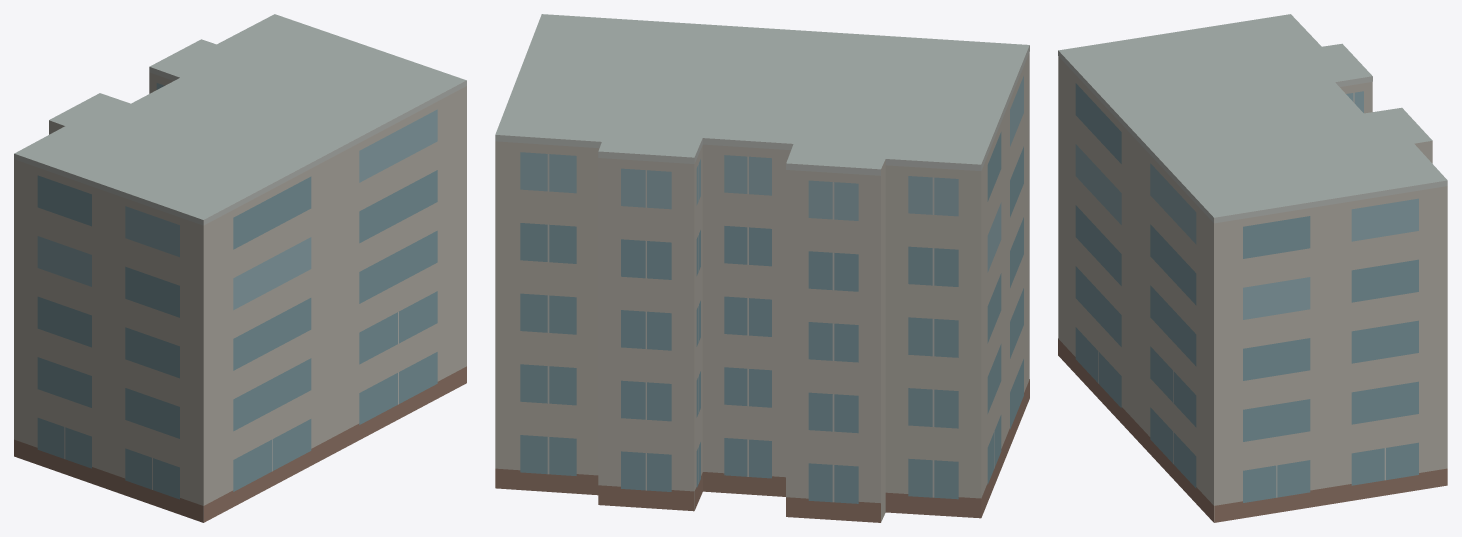
The model's file is survey-upis-32832173.glb.
3 renders of one model, left to right at view 1: azimuth 30°, elevation 25°; view 2: azimuth 150°, elevation 25°; view 3: azimuth 270°, elevation 25°, orthographic. The views are drawn at different scales.
Visible parts, largest first — view 1: survey-upis-32832173.tmp; view 2: survey-upis-32832173.tmp; view 3: survey-upis-32832173.tmp.
Boxes of the visible parts, x1,y1,x2,y2 form: survey-upis-32832173.tmp: [14, 14, 466, 522]; survey-upis-32832173.tmp: [495, 14, 1029, 522]; survey-upis-32832173.tmp: [1058, 14, 1447, 522].
Size of the model in its own units: 18.99 by 13.25 by 15.34.
